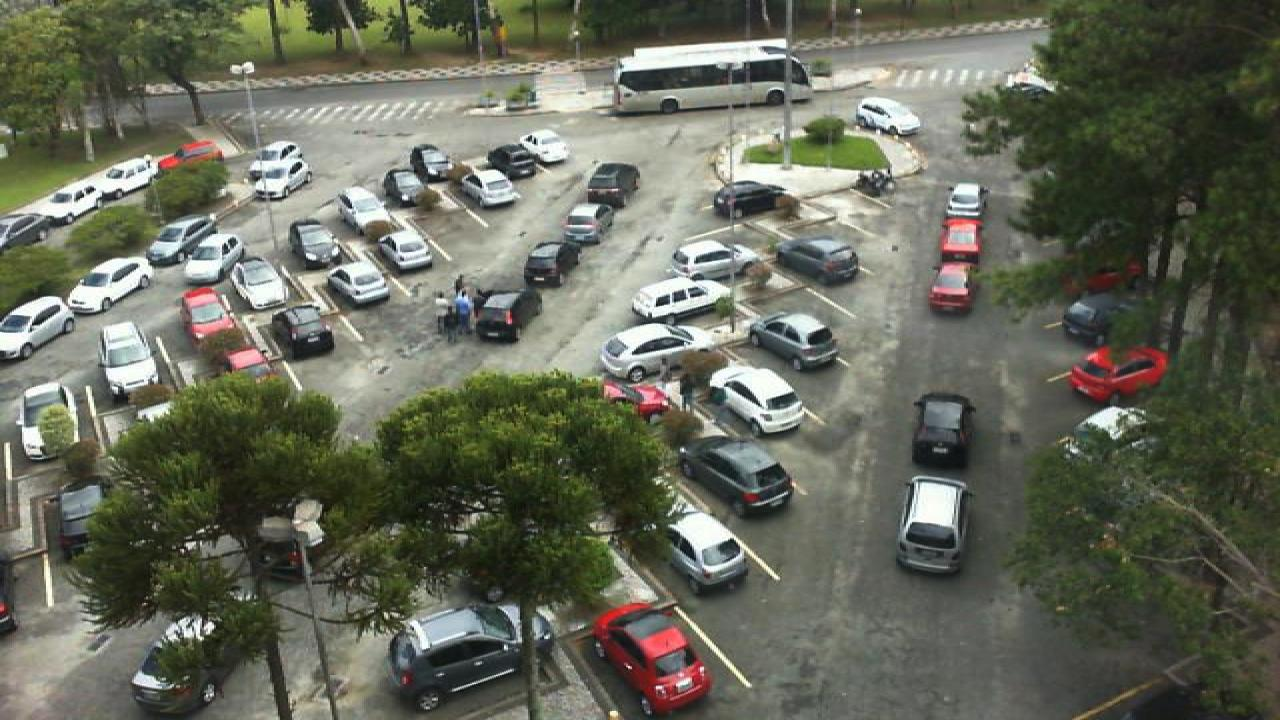Car: (384, 604, 532, 709), (586, 603, 712, 718), (676, 436, 798, 518), (126, 614, 222, 714), (706, 366, 808, 437), (666, 511, 752, 595), (598, 324, 704, 386), (1068, 343, 1170, 406), (748, 312, 842, 371), (630, 276, 732, 328), (96, 320, 160, 400), (66, 257, 154, 315), (0, 295, 76, 360), (14, 384, 78, 461), (58, 480, 110, 562), (776, 235, 862, 284), (670, 238, 760, 282), (714, 180, 798, 223), (30, 174, 112, 218), (476, 289, 542, 343), (268, 305, 334, 359), (146, 216, 216, 266), (1062, 289, 1124, 345), (602, 379, 678, 423), (230, 258, 290, 310), (180, 285, 232, 342), (184, 231, 246, 278), (854, 96, 922, 137), (584, 161, 642, 207), (524, 243, 580, 290), (328, 266, 392, 307), (290, 218, 342, 267), (88, 152, 158, 188), (248, 162, 314, 200), (460, 169, 522, 208), (928, 263, 974, 315), (560, 202, 614, 246), (336, 185, 390, 229), (380, 229, 434, 272), (156, 138, 224, 171), (518, 127, 574, 167), (220, 344, 278, 382), (940, 219, 984, 266), (408, 143, 458, 184), (246, 140, 306, 174), (0, 212, 48, 253), (946, 184, 982, 220)
